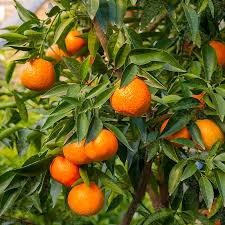orange: (109, 74, 152, 119), (62, 181, 107, 212), (22, 52, 56, 91), (86, 124, 121, 158), (45, 154, 81, 183), (63, 133, 96, 164), (61, 28, 89, 57)
